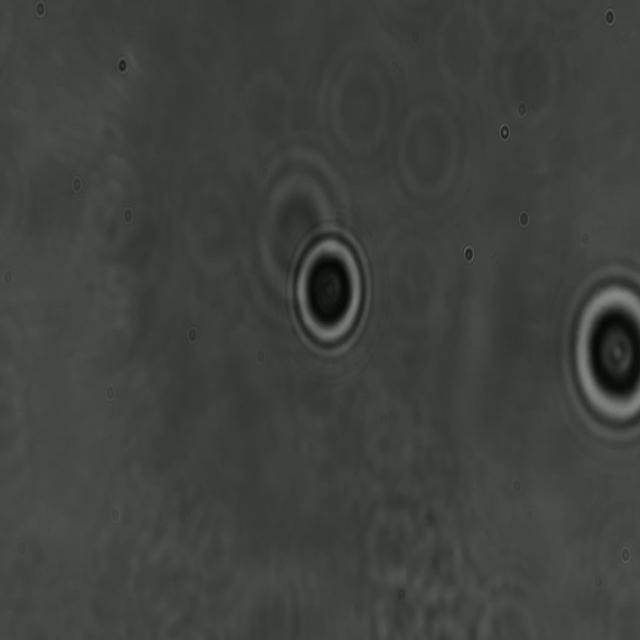DCELL: (274, 210, 386, 370)
